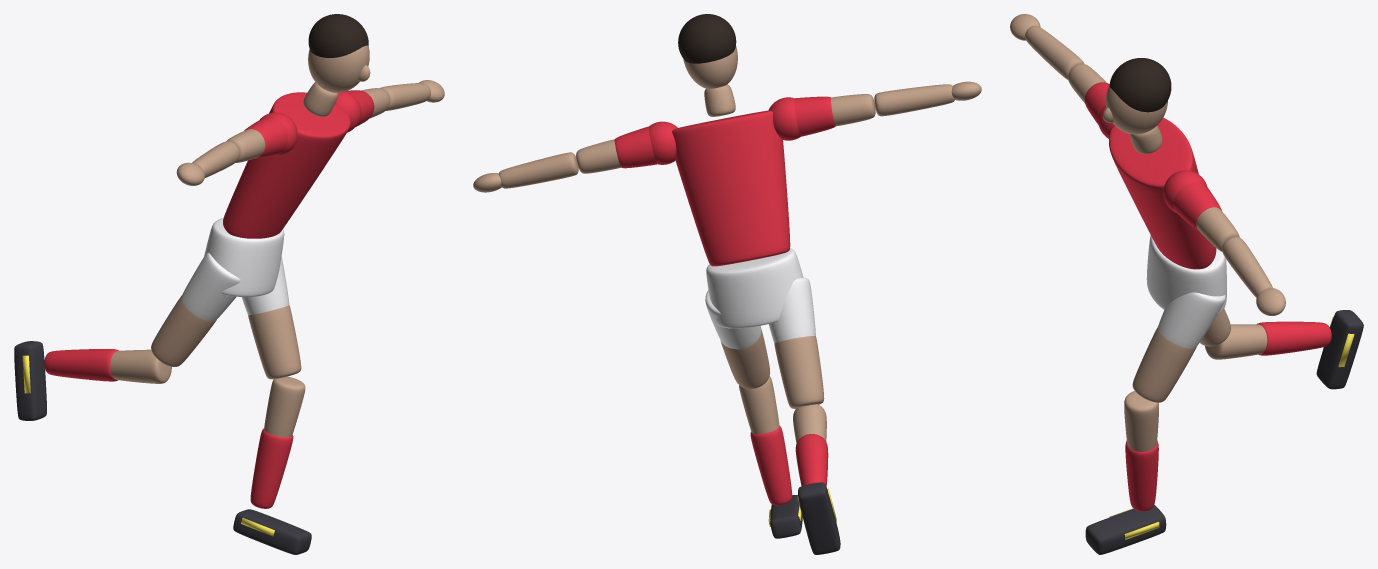
Rendered from reward-celeb-arms-out.glb.
3 views of the same model, side by side, from view 1: azimuth 30°, elevation 25°; view 2: azimuth 150°, elevation 25°; view 3: azimuth 270°, elevation 25° (orthographic). The views are drawn at different scales.
Visible parts, largest first — view 1: Cone.001, Cone, Cone.007, Cone.013, Cone.014, Cone.009, Cube.002, Sphere.001, Cone.016, Cube, Sphere, Cone.008 (+9 smaller); view 2: Cone.001, Cone, Cone.014, Sphere.001, Cube.002, Cone.009, Cone.013, Cone.012, Cone.005, Cone.007, Cone.008, Cone.016 (+11 smaller); view 3: Cone.001, Cone, Cone.007, Sphere.001, Cone.006, Cube, Cube.002, Cone.016, Cone.009, Cone.008, Cone.015, Cone.005 (+11 smaller).
Boxes of the visible parts, x1=… form: Cone.001: x1=223, y1=92, x2=350, y2=238; Cone: x1=204, y1=218, x2=284, y2=296; Cone.007: x1=248, y1=305, x2=301, y2=379; Cone.013: x1=181, y1=252, x2=240, y2=321; Cone.014: x1=151, y1=295, x2=216, y2=366; Cone.009: x1=250, y1=428, x2=293, y2=508; Cube.002: x1=14, y1=341, x2=46, y2=420; Sphere.001: x1=308, y1=14, x2=368, y2=57; Cone.016: x1=44, y1=349, x2=118, y2=381; Cube: x1=233, y1=509, x2=311, y2=554; Sphere: x1=308, y1=45, x2=369, y2=92; Cone.008: x1=264, y1=376, x2=305, y2=437; Cone.001: x1=672, y1=110, x2=790, y2=266; Cone: x1=706, y1=248, x2=803, y2=328; Cone.014: x1=774, y1=336, x2=824, y2=408; Sphere.001: x1=678, y1=14, x2=736, y2=63; Cube.002: x1=798, y1=482, x2=840, y2=554; Cone.009: x1=750, y1=426, x2=792, y2=505; Cone.013: x1=768, y1=277, x2=815, y2=343; Cone.012: x1=874, y1=84, x2=954, y2=116; Cone.005: x1=498, y1=152, x2=578, y2=188; Cone.007: x1=720, y1=329, x2=770, y2=388; Cone.008: x1=739, y1=376, x2=779, y2=434; Cone.016: x1=795, y1=434, x2=828, y2=486; Cone.001: x1=1109, y1=117, x2=1216, y2=269; Cone: x1=1146, y1=235, x2=1226, y2=316; Cone.007: x1=1132, y1=327, x2=1196, y2=402; Sphere.001: x1=1109, y1=58, x2=1171, y2=112; Cone.006: x1=1157, y1=292, x2=1225, y2=348; Cube: x1=1085, y1=505, x2=1166, y2=554; Cube.002: x1=1316, y1=310, x2=1363, y2=389; Cone.016: x1=1257, y1=321, x2=1331, y2=355; Cone.009: x1=1125, y1=440, x2=1158, y2=511; Cone.008: x1=1124, y1=391, x2=1158, y2=451; Cone.015: x1=1205, y1=324, x2=1267, y2=359; Cone.005: x1=1222, y1=237, x2=1272, y2=297.
Bounding box in the file's own units: 2.89 × 3.53 × 2.18.
